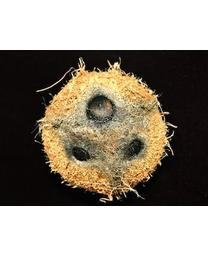coconut: (41, 66, 167, 195)
